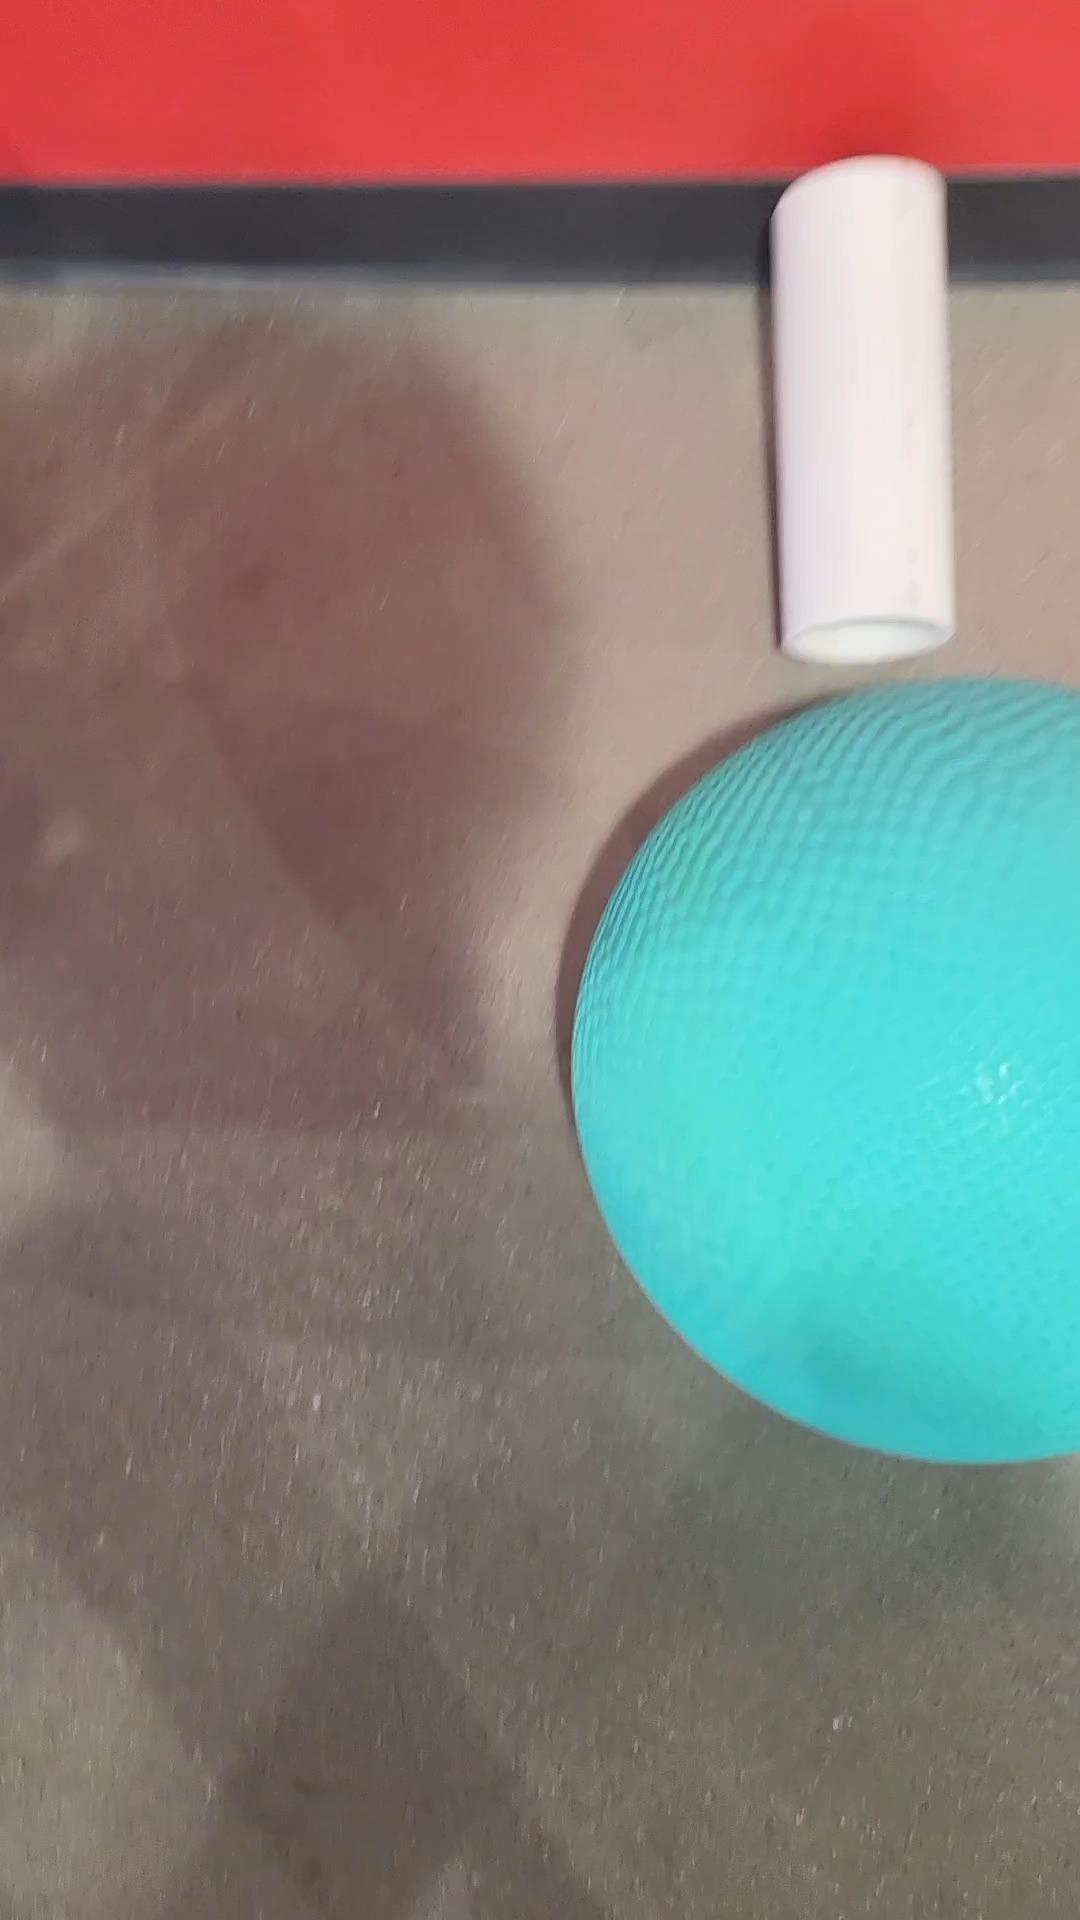algae: (526, 655, 1080, 1509)
coral: (741, 141, 957, 673)
